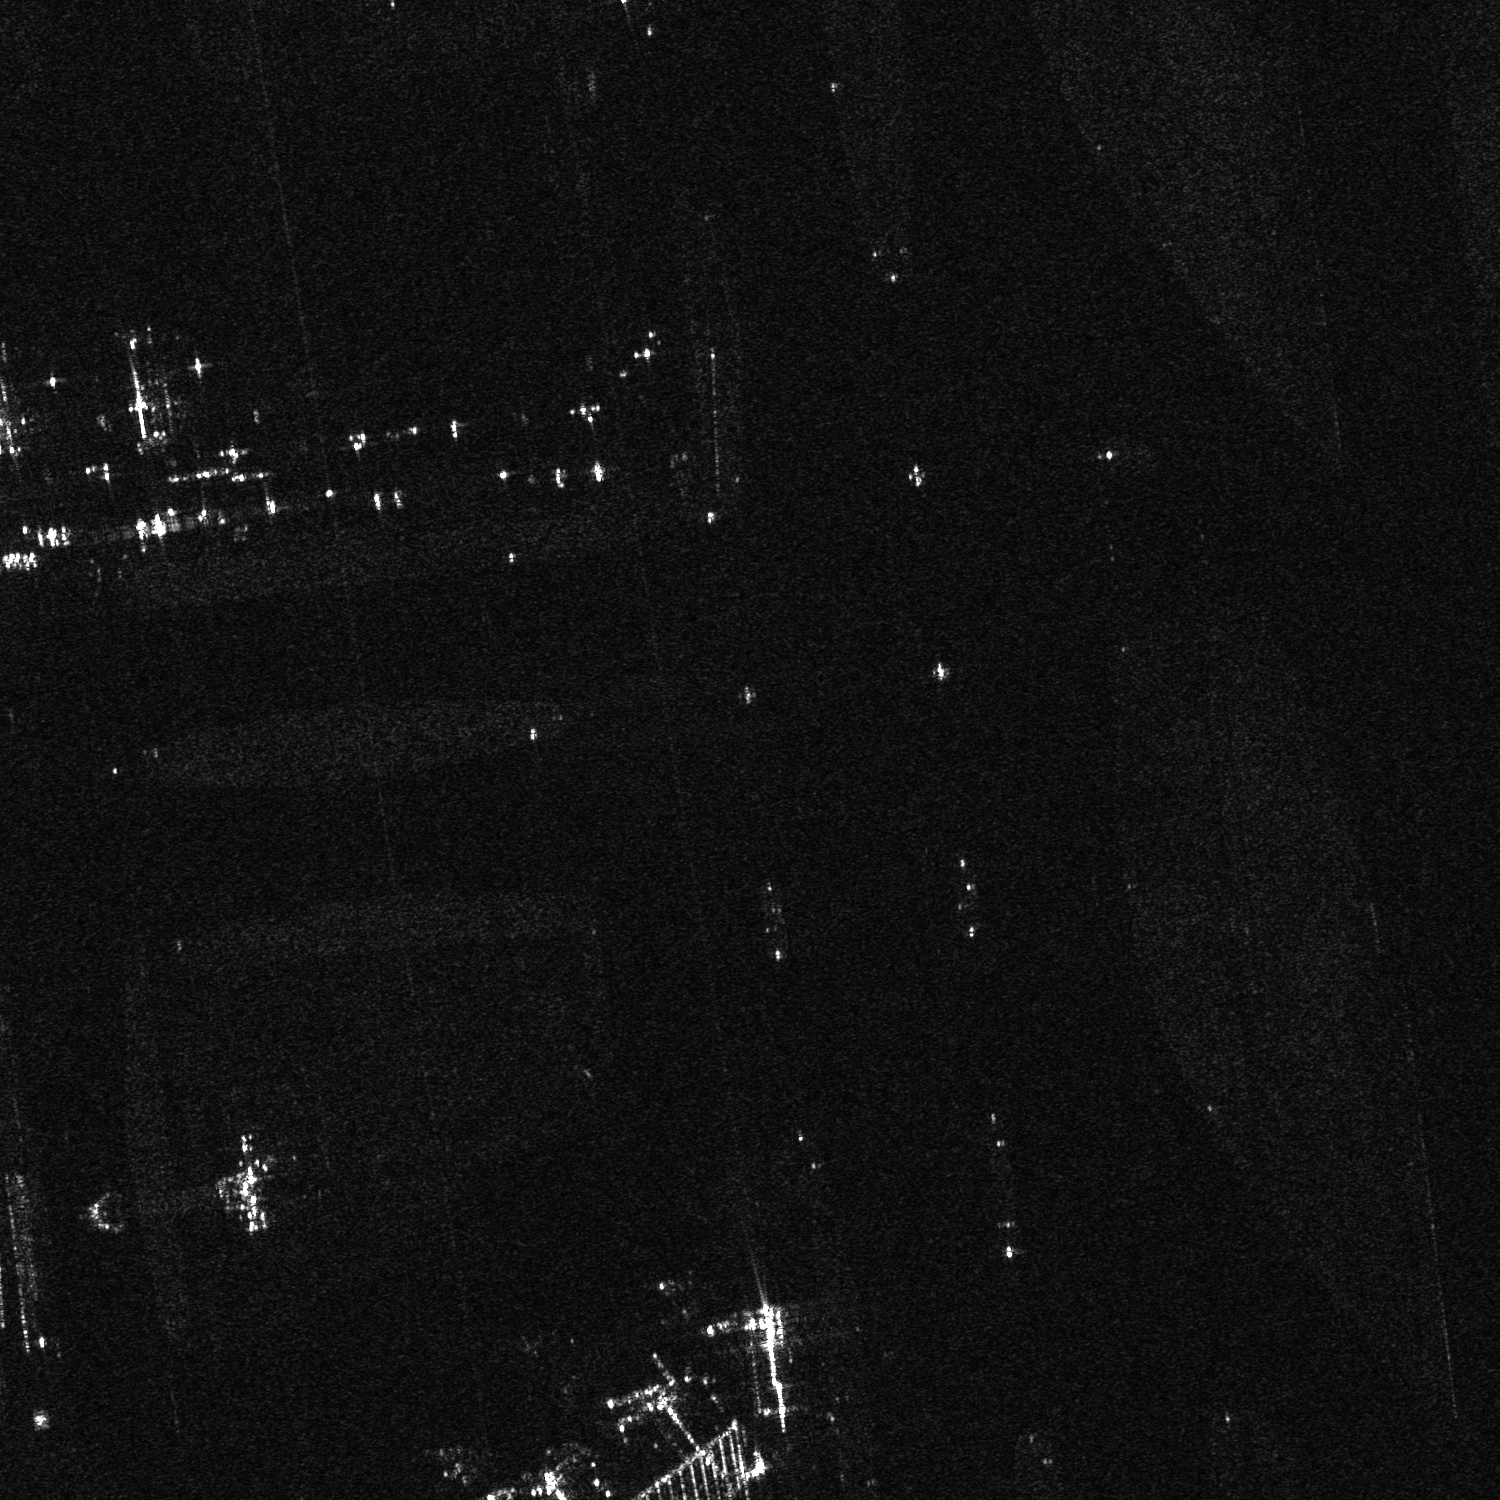A220: (658, 1277, 712, 1321)
